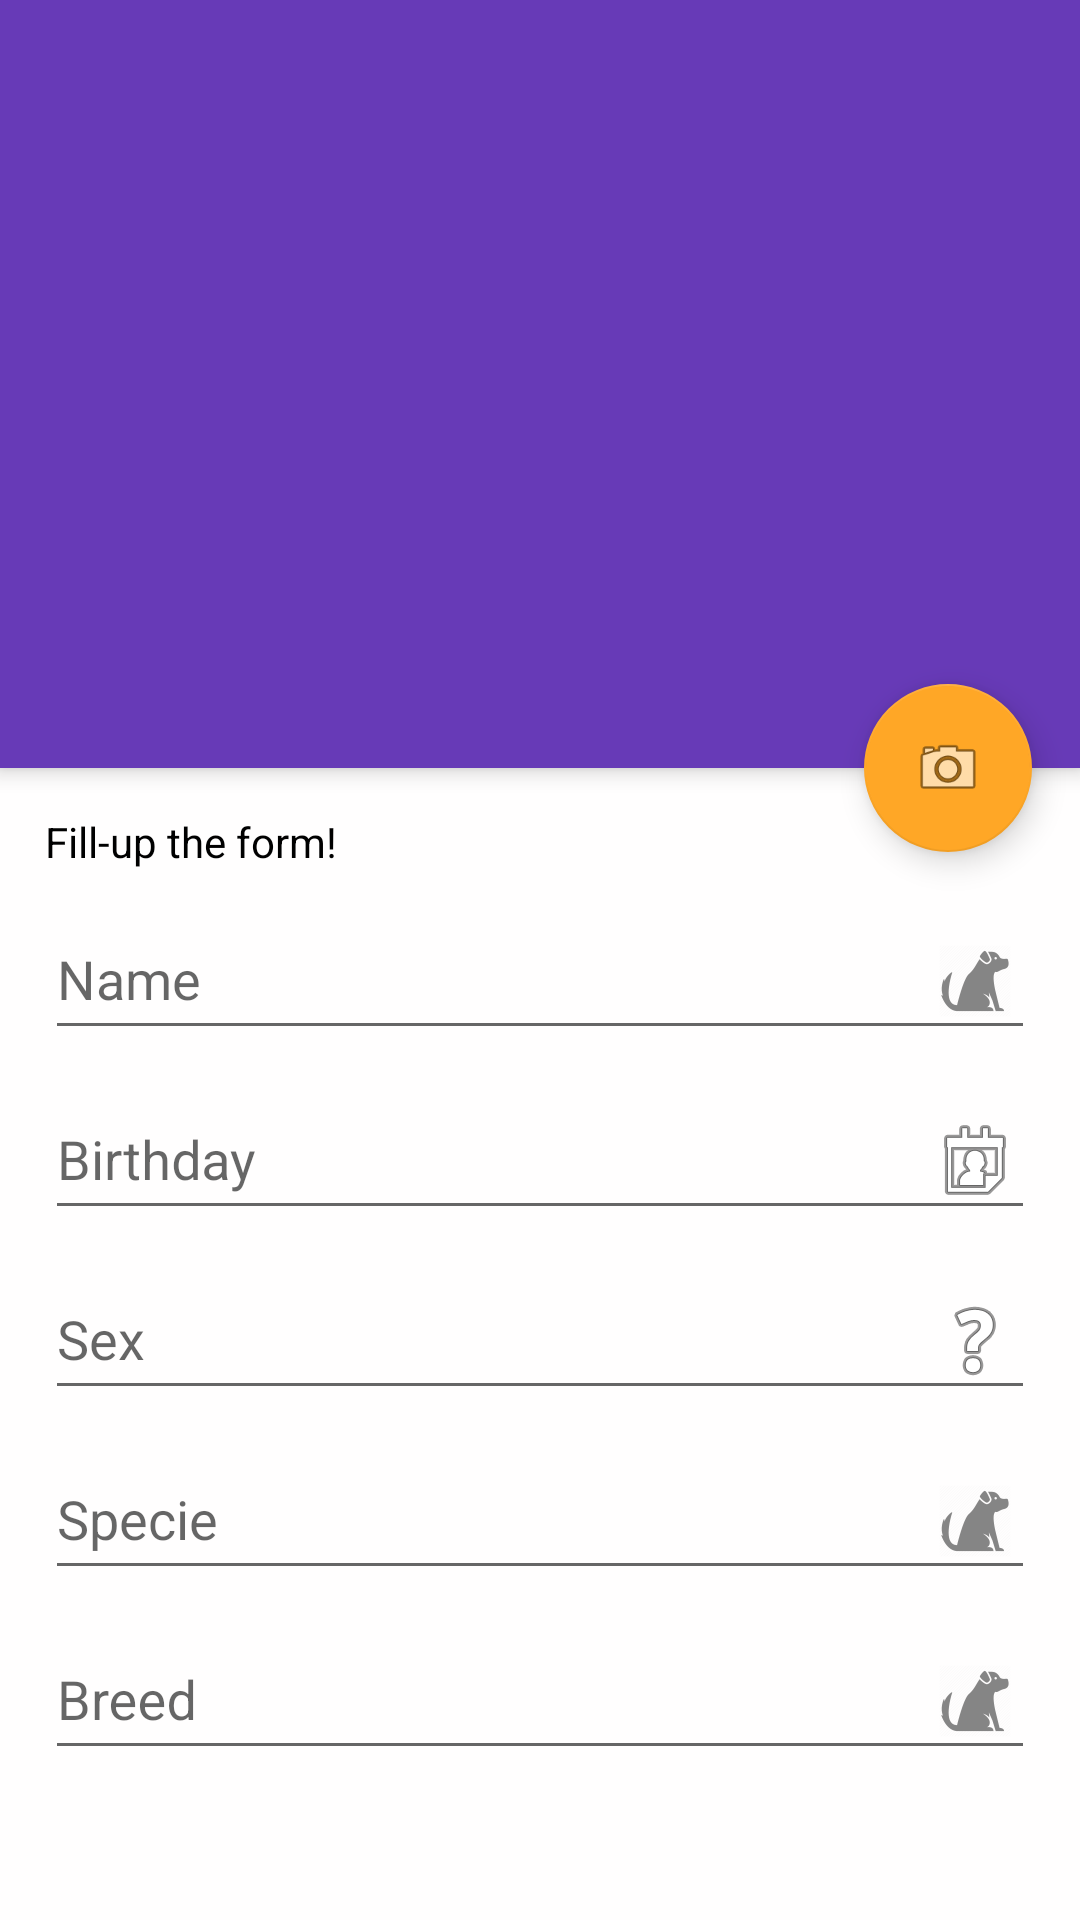

Icon click points for this 1080*1920 phone screenshot, format [x,y]:
camera: [948,768]
